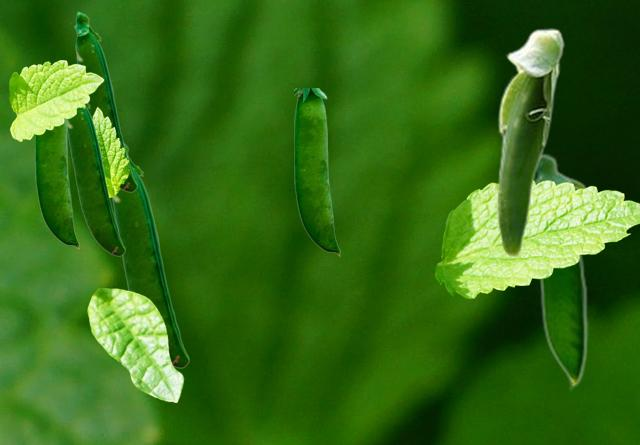pea: (111, 143, 188, 367), (496, 28, 564, 257), (535, 152, 587, 390), (74, 11, 136, 191), (67, 103, 124, 255), (294, 88, 339, 255), (35, 119, 78, 248)
